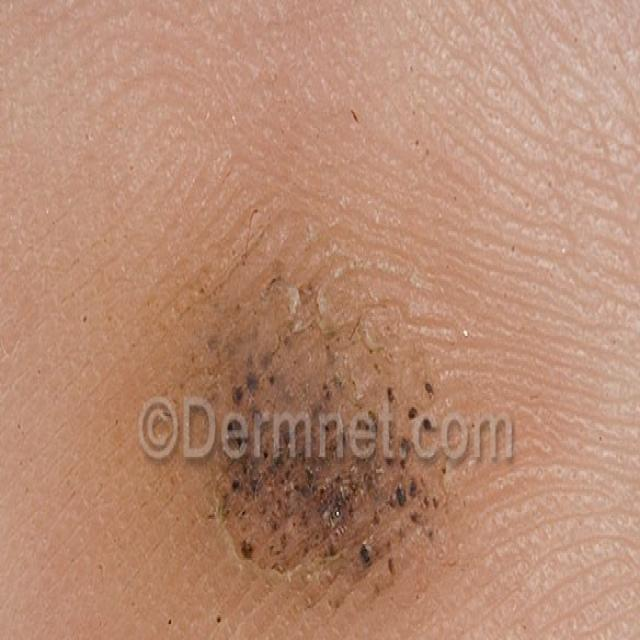Vascular Tumors: (132, 230, 490, 614)
